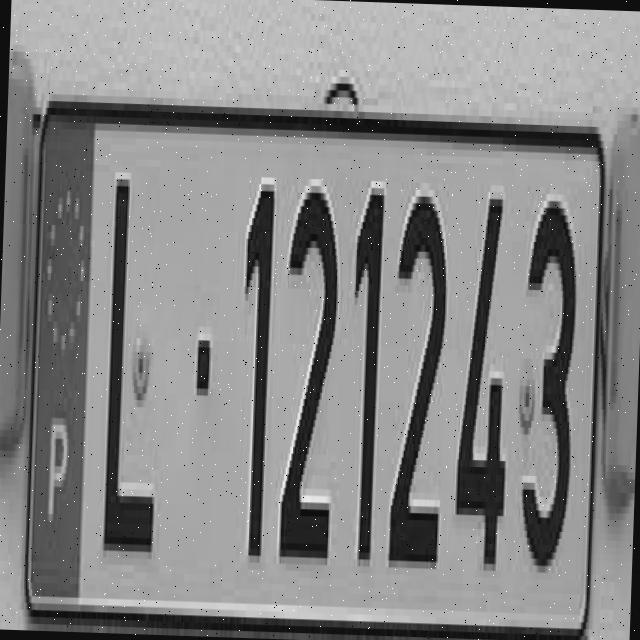EU: (21, 89, 607, 640)
Portugal: (26, 104, 94, 609)
